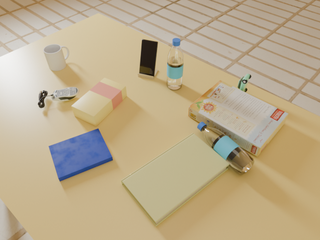book: (121, 133, 230, 226), (49, 129, 113, 181)
bottle: (197, 122, 254, 174), (167, 38, 183, 90)
box: (188, 80, 288, 156), (72, 78, 127, 126)
cup: (43, 44, 69, 71)
mouse: (50, 87, 79, 101)
phone: (139, 39, 158, 76)
toy_car: (238, 74, 251, 92)
